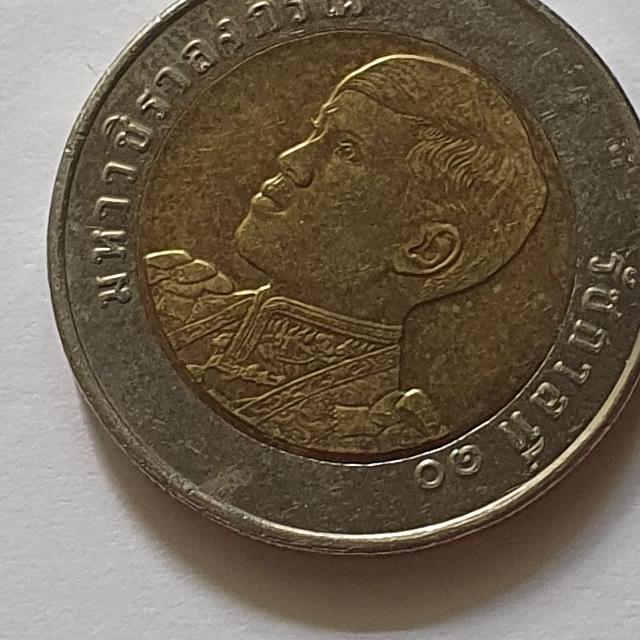10 Bath: (40, 1, 640, 573)
